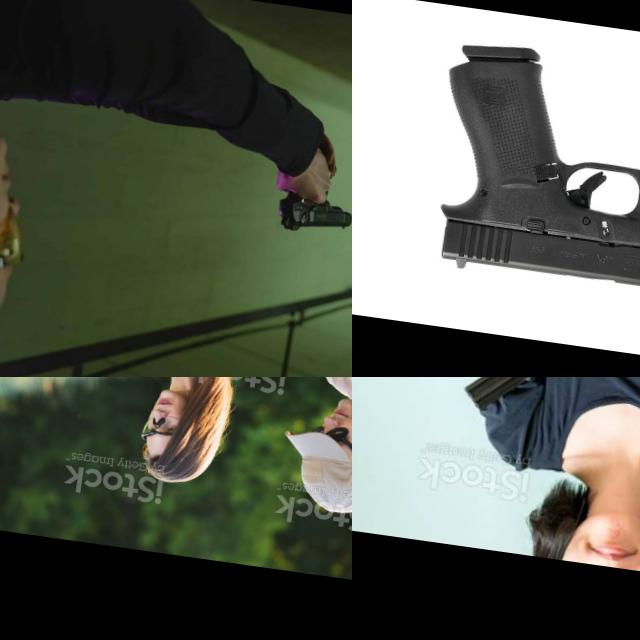handgun: (416, 33, 640, 305), (272, 181, 352, 239), (232, 377, 329, 402), (0, 377, 45, 403)
